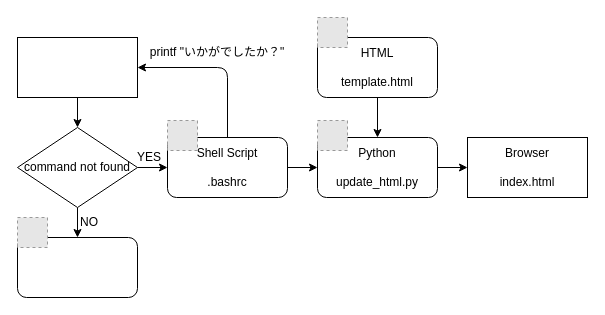
Image size: 605x315. Some labels were removed from this diagram. Grey dashed boxes stand in for pictures. Here are the shapes that lost their labels. From the top down, the centre of each, then its label:
At point (77, 67): "TERMINAL USER INPUT".
At point (77, 267): "TERMINAL Excute command".
